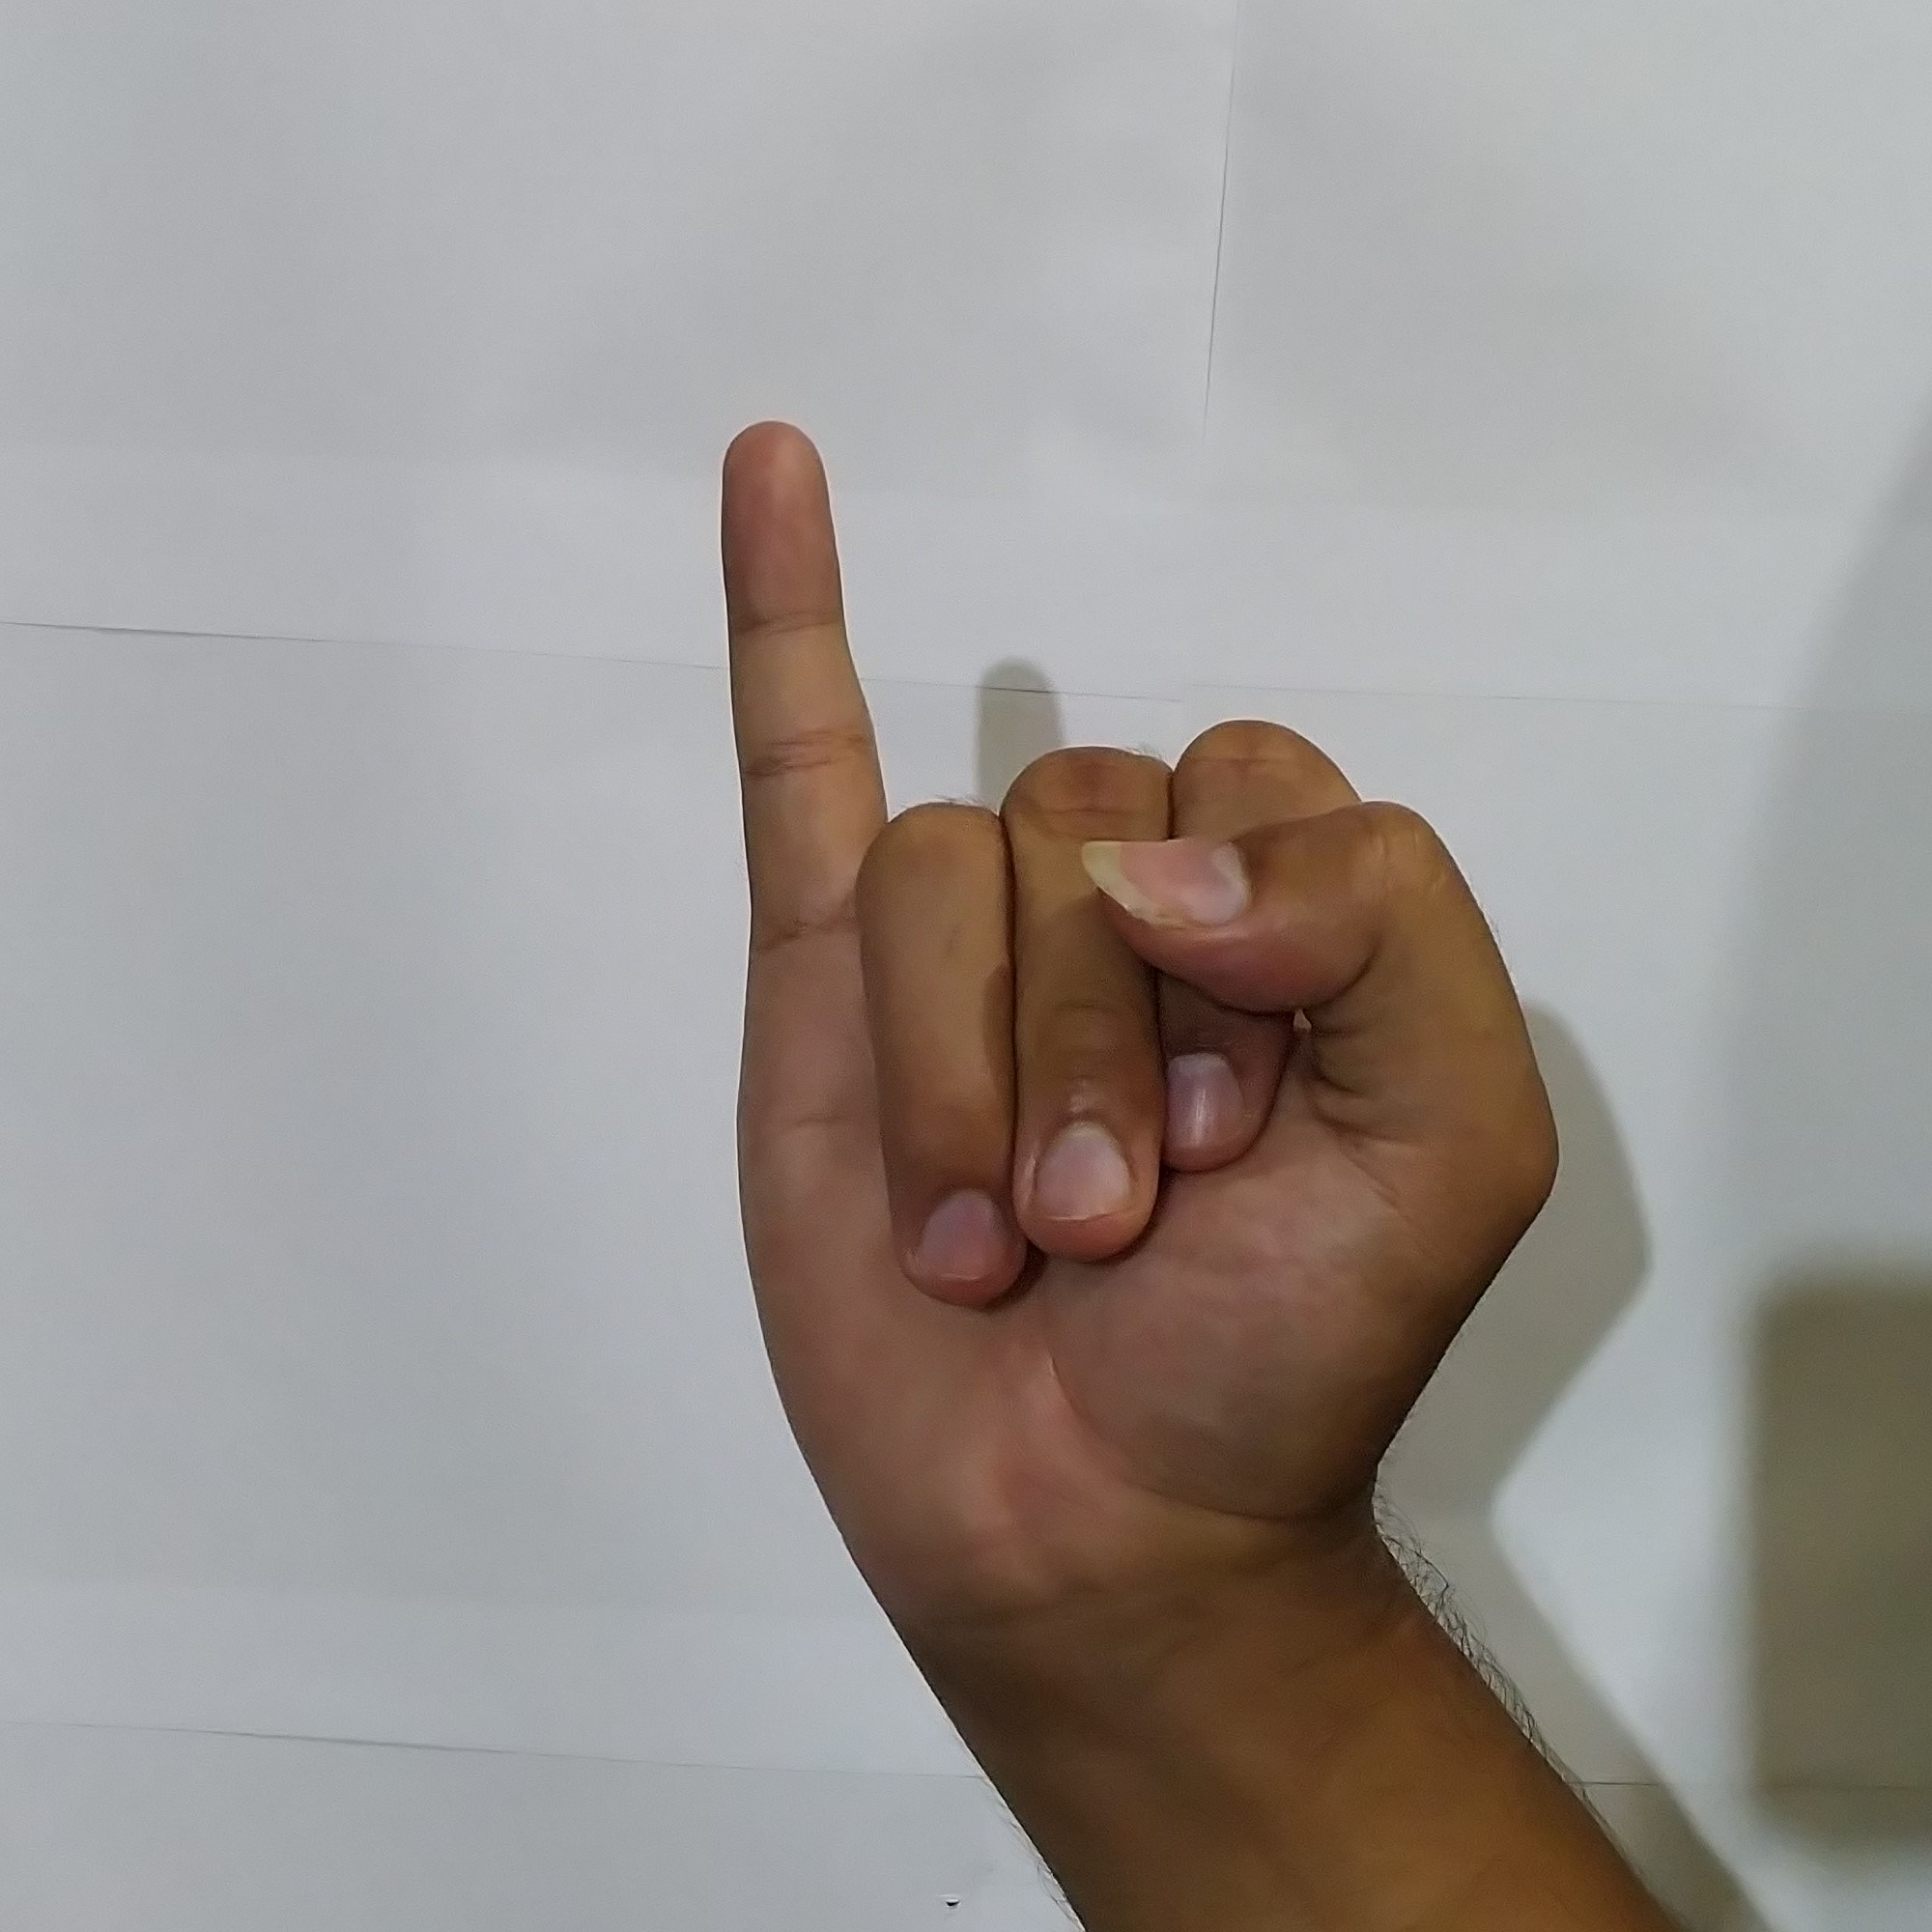I: (690, 403, 1585, 1527)
